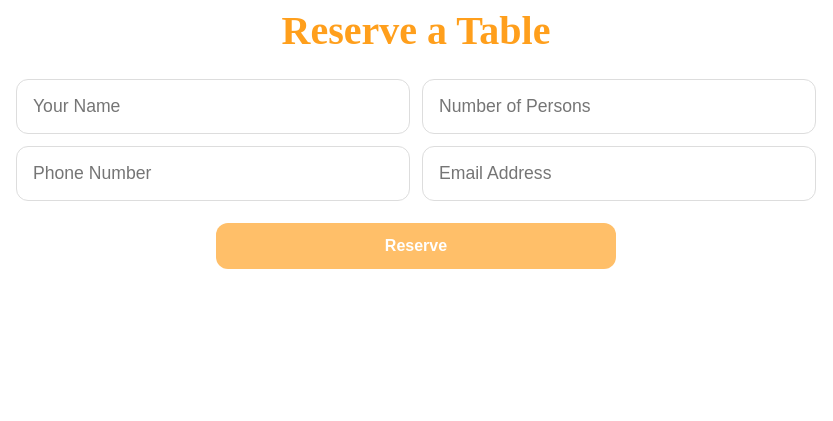
ReservationCard Component › shows validation error for invalid email format
Type "invalid-email" into the field with placeholder "Email Address".
click(619, 174); type("invalid-email")  # box x1=422 y1=146 x2=816 y2=201
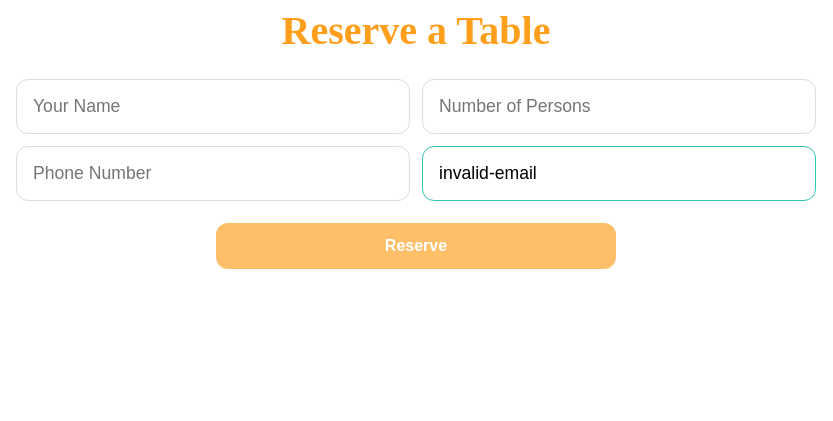
Click the button "Reserve".
click(416, 246)  # box x1=216 y1=223 x2=616 y2=269
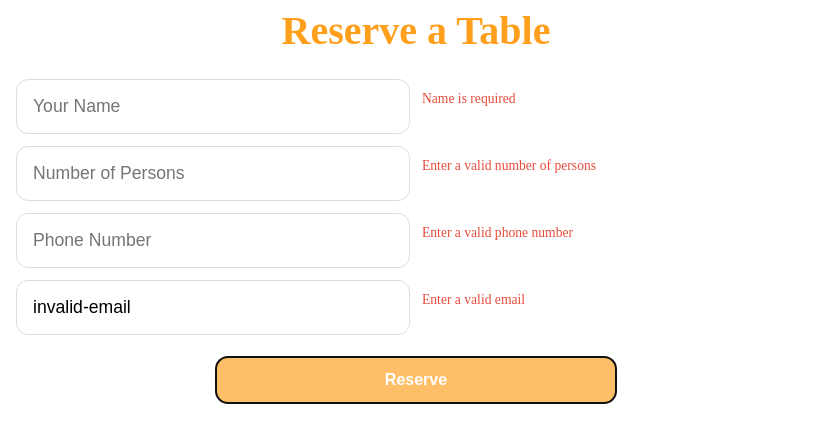
Check: the text "Enter a valid email" is shown, box x1=422 y1=292 x2=525 y2=307
